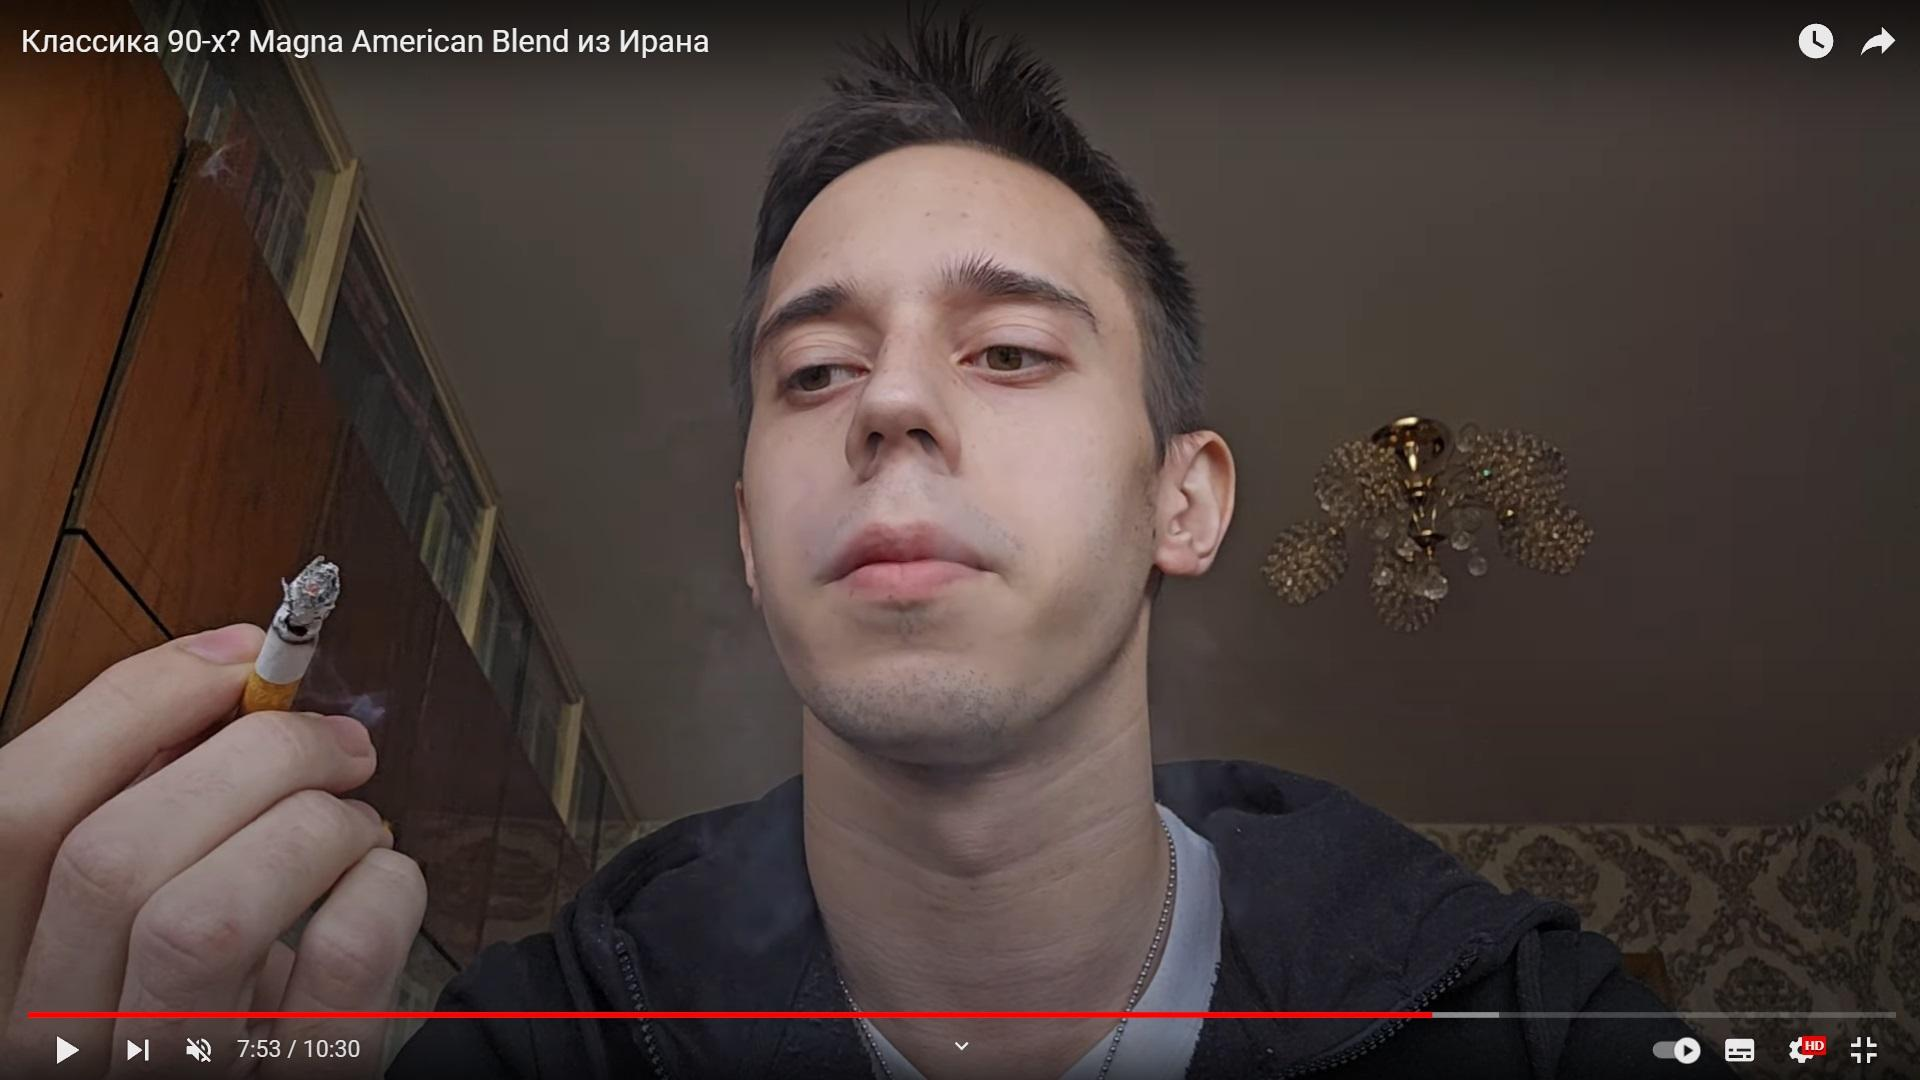cigarette: (240, 555, 342, 712)
